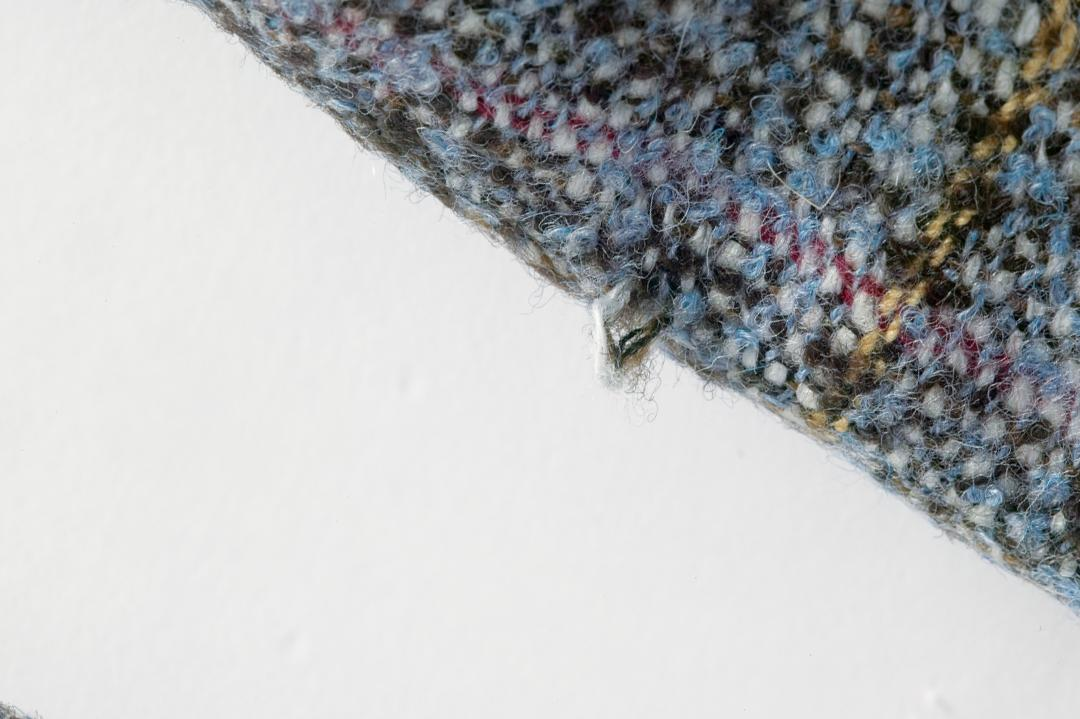snag: (574, 265, 680, 383)
